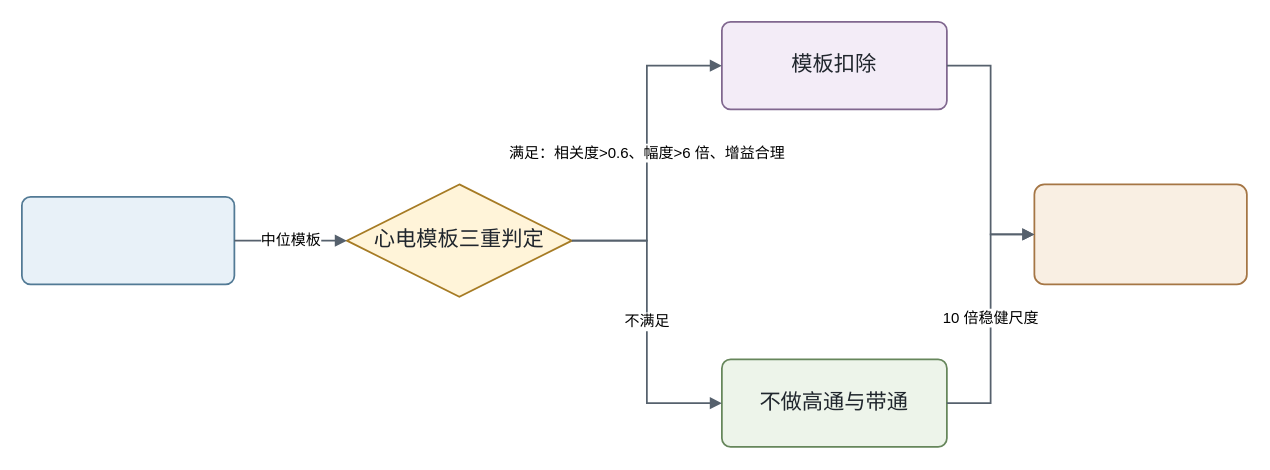
The diagram is 1270 pixels wide and 470 high, and some of its shapes have lost their labels. Here are the shapes that lost their labels. From the top down, the box of each, then its label:
(20, 195, 235, 285): 基线校正与 R 波定位
(1033, 183, 1247, 285): 稳健软截断
